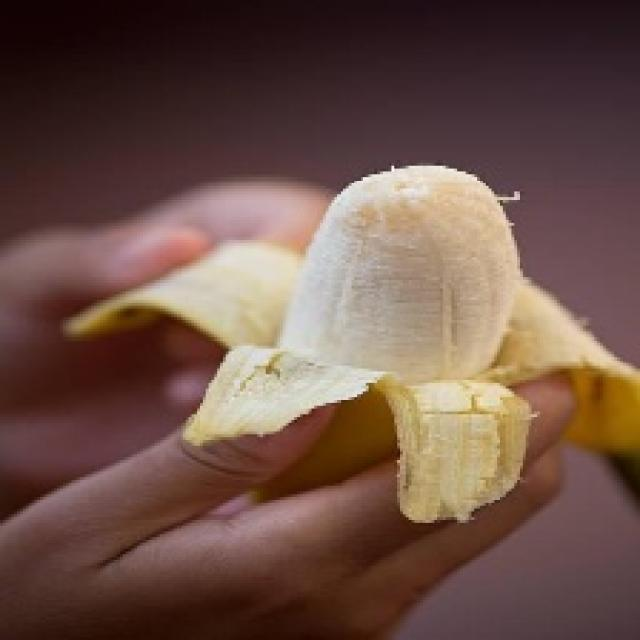Banana: (60, 160, 637, 526)
